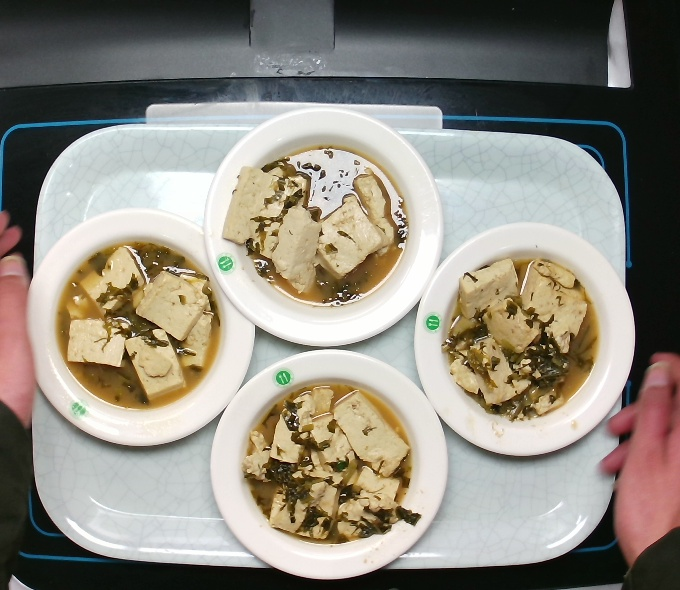wcq-XueCaiDouFu: (54, 235, 222, 413), (244, 380, 417, 546), (239, 141, 410, 306), (443, 256, 600, 419)
